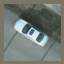car: (14, 18, 50, 45)
